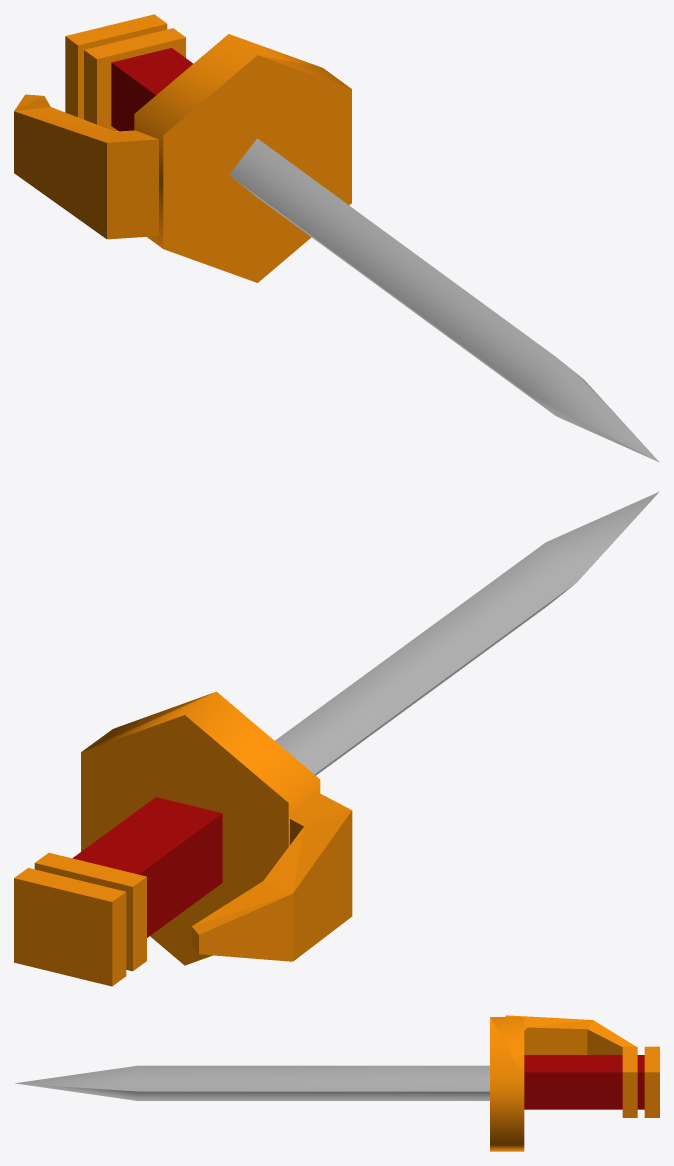
The model's file is Sword 06.FBX.
3 renders of one model, top to bottom at view 1: azimuth 30°, elevation 25°; view 2: azimuth 150°, elevation 25°; view 3: azimuth 270°, elevation 25°, orthographic. The views are drawn at different scales.
Visible parts, largest first — view 1: Sword 06; view 2: Sword 06; view 3: Sword 06.
Boxes of the visible parts, x1,y1,x2,y2 form: Sword 06: (14, 14, 659, 462); Sword 06: (14, 491, 659, 986); Sword 06: (15, 1015, 659, 1151).
Bounding box in the file's own units: 21.44 × 18.62 × 80.88.
